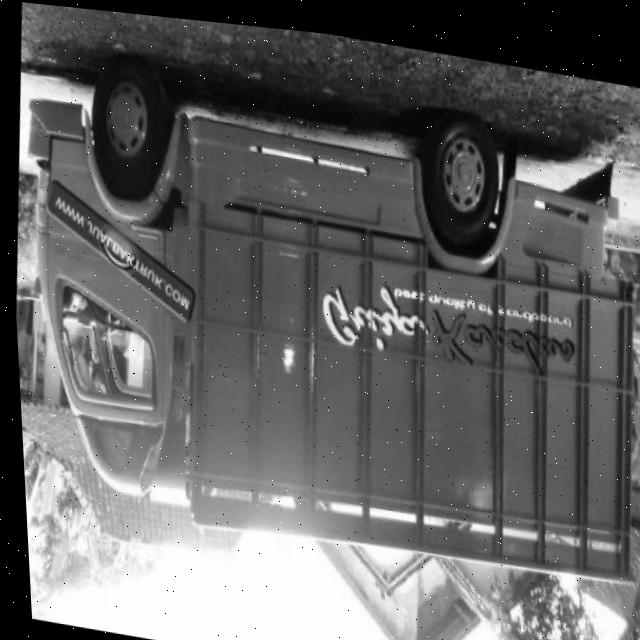truck: (2, 28, 238, 526)
